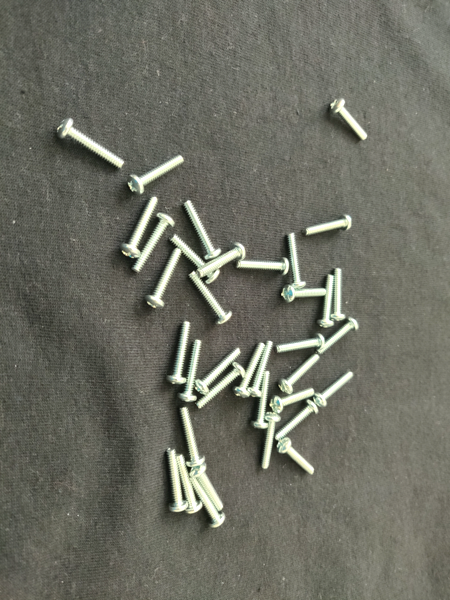longscrew: (55, 117, 125, 169), (131, 212, 175, 274), (170, 233, 221, 285), (188, 270, 233, 326), (120, 196, 159, 259), (196, 361, 246, 410), (183, 200, 222, 261), (194, 346, 242, 395), (146, 247, 183, 310), (127, 155, 185, 195), (190, 477, 227, 530), (274, 399, 319, 442), (189, 462, 225, 513), (233, 342, 265, 399), (328, 97, 369, 141), (197, 242, 246, 278), (278, 353, 321, 394), (315, 317, 360, 356), (176, 454, 203, 516), (167, 321, 192, 387), (180, 407, 206, 469), (276, 437, 317, 476), (179, 340, 204, 403), (247, 340, 274, 398), (312, 372, 355, 407), (167, 448, 189, 514), (260, 412, 283, 470), (302, 214, 353, 238), (270, 387, 316, 413), (251, 371, 271, 430), (287, 232, 307, 290), (235, 256, 290, 277), (275, 332, 326, 354), (317, 274, 336, 329), (328, 268, 347, 322), (281, 284, 327, 303)
